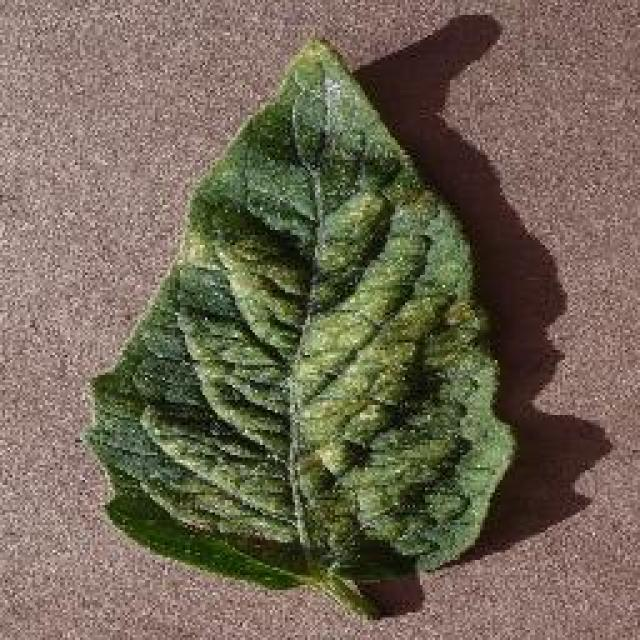Tomato mosaic virus leaf: (85, 36, 517, 594)
